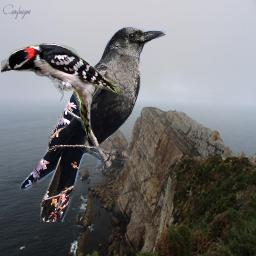Crow: (20, 25, 166, 222)
Woodpecker: (1, 42, 121, 140)
